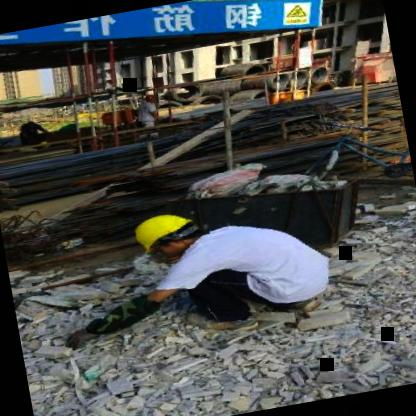helmet: (123, 202, 211, 266)
